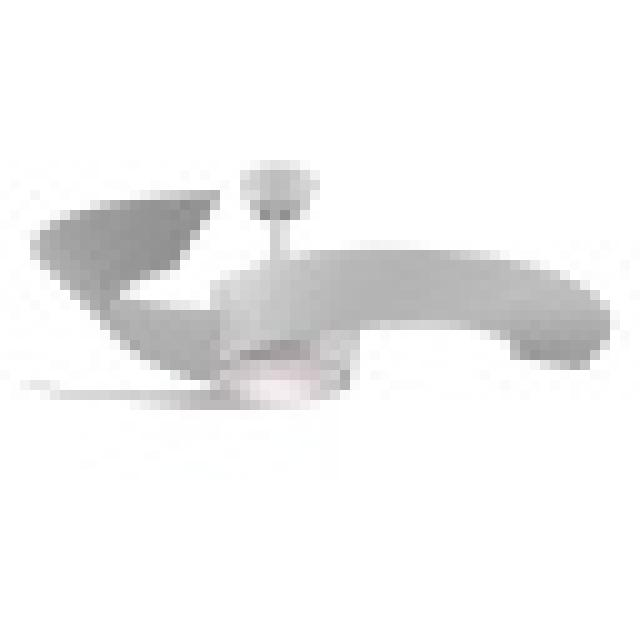Bulb: (24, 154, 640, 477)
